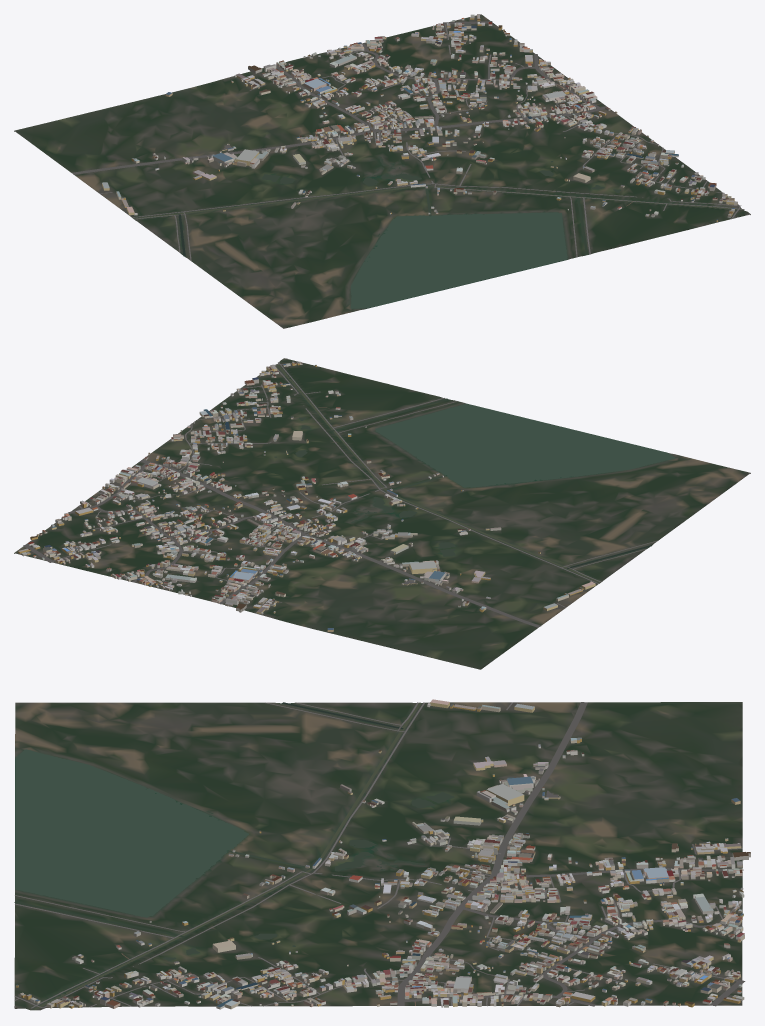
The picture shows the model from 3 angles, top to bottom: view 1: azimuth 30°, elevation 25°; view 2: azimuth 150°, elevation 25°; view 3: azimuth 270°, elevation 25°; orthographic projection. The views are drawn at different scales.
Parts seen in each view (by area): view 1: ground, buildings, water, roads; view 2: ground, buildings, water, roads; view 3: ground, buildings, water, roads.
Part boxes in pixels (x1,y1,x2,y2): ground: [14, 14, 750, 328]; buildings: [102, 14, 737, 221]; water: [133, 156, 743, 308]; roads: [72, 21, 748, 260]; ground: [14, 358, 750, 669]; buildings: [18, 361, 595, 631]; water: [274, 364, 675, 582]; roads: [23, 358, 657, 627]; ground: [14, 702, 742, 1010]; buildings: [16, 699, 750, 1009]; water: [14, 702, 453, 1010]; roads: [14, 702, 745, 1008].
Size of the model in its own units: 1415 by 23.59 by 1419.
